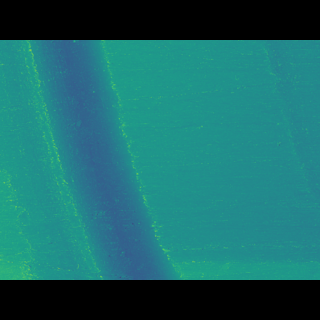Loch: (0, 70, 184, 250)
